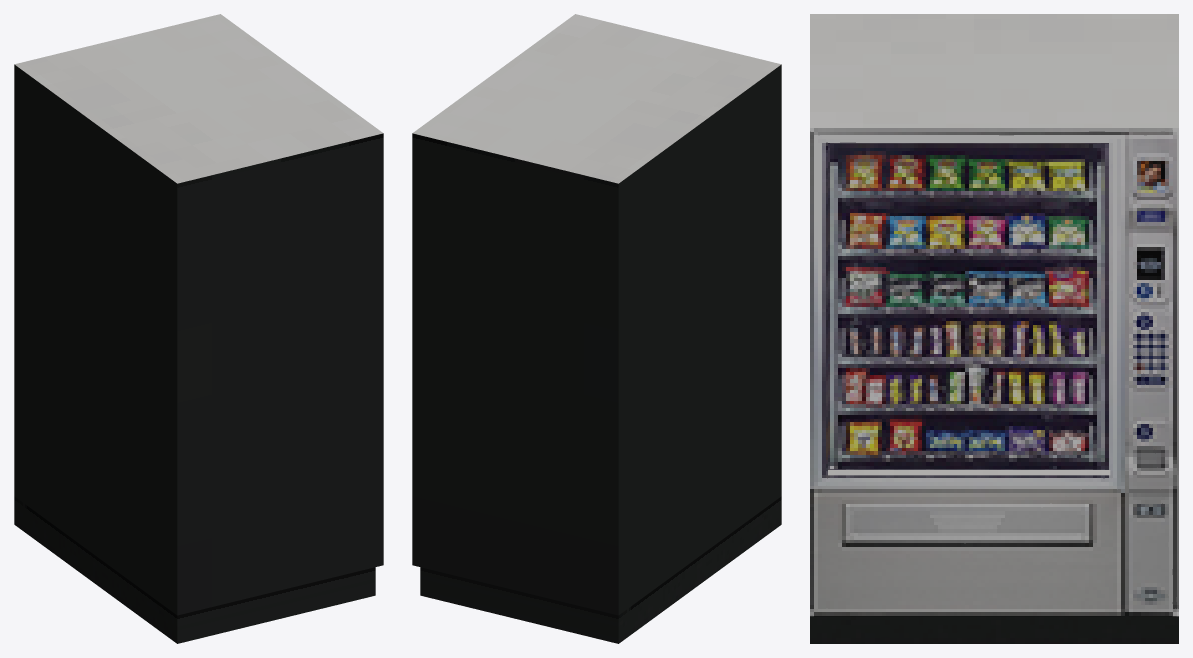
File: vendingmachines.glb
The picture shows the model from 3 angles, left to right: view 1: azimuth 30°, elevation 25°; view 2: azimuth 150°, elevation 25°; view 3: azimuth 270°, elevation 25°; orthographic projection. The views are drawn at different scales.
Visible parts, largest first — view 1: vendingmachine; view 2: vendingmachine; view 3: vendingmachine.
Part boxes in pixels (bbox=[...]): vendingmachine: bbox=[14, 14, 383, 643]; vendingmachine: bbox=[412, 14, 781, 643]; vendingmachine: bbox=[810, 14, 1178, 643].
Size of the model in its own units: 2 by 4.26 by 2.74.
Materials: 1 (1 with a texture image).
